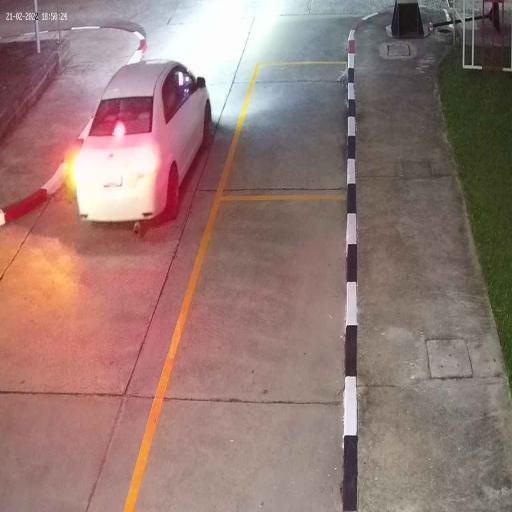car: (74, 56, 214, 226)
